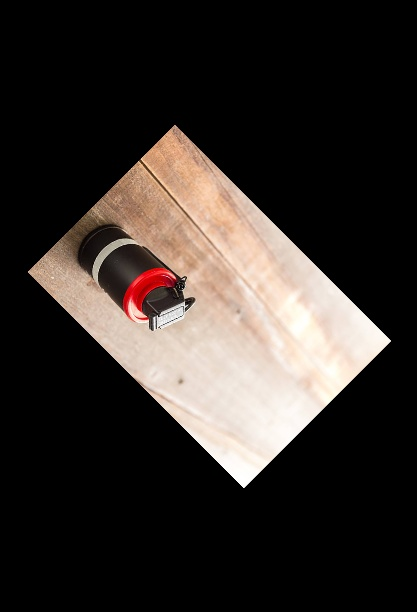e1: (74, 221, 200, 332)
